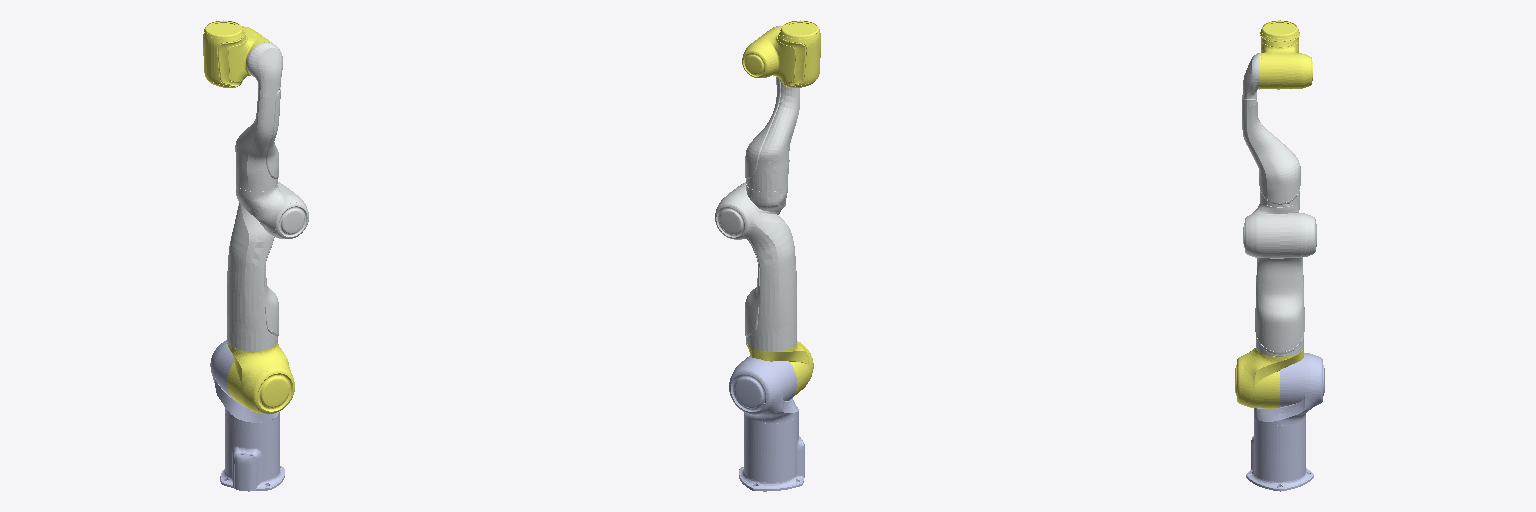
The robot description file, URDF, robot "diana_v2":
<?xml version="1.0" encoding="utf-8"?>
<!-- This URDF was automatically created by SolidWorks to URDF Exporter! Originally created by [author] ([email redacted]) 
     Commit Version: 1.5.1-0-g916b5db  Build Version: 1.5.7152.31018
     For more information, please see http://wiki.ros.org/sw_urdf_exporter -->
<robot name="diana_v2">

  <link name="world" />

  <joint name="world_joint" type="fixed" >
    <parent link="world"/>
    <child link="base"/>
    <origin xyz="0 0 0" rpy="0 0 0"/>
  </joint>
  
  <link
    name="base">
    <inertial>
      <origin
        xyz="0.00153097191906452 0.00152031034664837 0.0524230280849149"
        rpy="0 0 0" />
      <mass
        value="1.33110743457779" />
      <inertia
        ixx="0.00695879790529406"
        ixy="9.99328685258342E-05"
        ixz="7.99577031212481E-05"
        iyy="0.00695365531716522"
        iyz="7.90796997368543E-05"
        izz="0.00729823323321907" />
    </inertial>
    <visual>
      <origin
        xyz="0 0 0"
        rpy="0 0 0" />
      <geometry>
        <mesh
          filename="package://diana7_description/meshes/visual/dae/base.dae" />
      </geometry>
      <material
        name="">
        <color
          rgba="0.796078431372549 0.823529411764706 0.937254901960784 1" />
      </material>
    </visual>
    <collision>
      <origin
        xyz="0 0 0"
        rpy="0 0 0" />
      <geometry>
        <mesh
          filename="package://diana7_description/meshes/visual/dae/base.dae" />
      </geometry>
    </collision>
  </link>
  <link
    name="link_1">
    <inertial>
      <origin
        xyz="5.5234067920554E-05 0.0254878204920178 -0.0355441421264809"
        rpy="0 0 0" />
      <mass
        value="1.09025546409174" />
      <inertia
        ixx="0.00585031196428369"
        ixy="1.4630349447555E-07"
        ixz="1.35351687162397E-06"
        iyy="0.00645496952227061"
        iyz="-0.00104800484741808"
        izz="0.00459531291521244" />
    </inertial>
    <visual>
      <origin
        xyz="0 0 0"
        rpy="0 0 0" />
      <geometry>
        <mesh
          filename="package://diana7_description/meshes/visual/dae/link_1.dae" />
      </geometry>
      <material
        name="">
        <color
          rgba="0.796078431372549 0.823529411764706 0.937254901960784 1" />
      </material>
    </visual>
    <collision>
      <origin
        xyz="0 0 0"
        rpy="0 0 0" />
      <geometry>
        <mesh
          filename="package://diana7_description/meshes/visual/dae/link_1.dae" />
      </geometry>
    </collision>
  </link>
  <joint
    name="joint_1"
    type="revolute">
    <origin
      xyz="0 0 0.2856"
      rpy="0 0 0" />
    <parent
      link="base" />
    <child
      link="link_1" />
    <axis
      xyz="0 0 -1" />
    <limit
      lower="-3.12"
      upper="3.12"
      effort="235"
      velocity="2.618" />
  </joint>
  <link
    name="link_2">
    <inertial>
      <origin
        xyz="-3.62724763868157E-06 -0.0292741005087307 -0.041280769252073"
        rpy="0 0 0" />
      <mass
        value="1.09515454908799" />
      <inertia
        ixx="0.00575817488413533"
        ixy="4.92454490330888E-07"
        ixz="-5.75758988171004E-07"
        iyy="0.00452592941277235"
        iyz="0.00135206824645357"
        izz="0.0058904584276842" />
    </inertial>
    <visual>
      <origin
        xyz="0 0 0"
        rpy="0 0 0" />
      <geometry>
        <mesh
          filename="package://diana7_description/meshes/visual/dae/link_2.dae" />
      </geometry>
      <material
        name="">
        <color
          rgba="0.980392156862745 0.980392156862745 0.470588235294118 1" />
      </material>
    </visual>
    <collision>
      <origin
        xyz="0 0 0"
        rpy="0 0 0" />
      <geometry>
        <mesh
          filename="package://diana7_description/meshes/visual/dae/link_2.dae" />
      </geometry>
    </collision>
  </link>
  <joint
    name="joint_2"
    type="revolute">
    <origin
      xyz="0 0 0"
      rpy="-1.5707963267949 0 0" />
    <parent
      link="link_1" />
    <child
      link="link_2" />
    <axis
      xyz="0 0 1" />
    <limit
      lower="-1.57"
      upper="1.57"
      effort="235"
      velocity="2.618" />
  </joint>
  <link
    name="link_3">
    <inertial>
      <origin
        xyz="0.0114318213510691 0.0101707598694861 -0.15131695375217"
        rpy="0 0 0" />
      <mass
        value="2.01686690128149" />
      <inertia
        ixx="0.0362470020041464"
        ixy="-0.00099203786071914"
        ixz="-0.00494440140493448"
        iyy="0.0374857206758098"
        iyz="-0.00313859974095155"
        izz="0.00905850119342719" />
    </inertial>
    <visual>
      <origin
        xyz="0 0 0"
        rpy="0 0 0" />
      <geometry>
        <mesh
          filename="package://diana7_description/meshes/visual/dae/link_3.dae" />
      </geometry>
      <material
        name="">
        <color
          rgba="0.898039215686275 0.917647058823529 0.929411764705882 1" />
      </material>
    </visual>
    <collision>
      <origin
        xyz="0 0 0"
        rpy="0 0 0" />
      <geometry>
        <mesh
          filename="package://diana7_description/meshes/visual/dae/link_3.dae" />
      </geometry>
    </collision>
  </link>
  <joint
    name="joint_3"
    type="revolute">
    <origin
      xyz="0 -0.4586 0"
      rpy="1.5707963267949 0 0" />
    <parent
      link="link_2" />
    <child
      link="link_3" />
    <axis
      xyz="0 0 -1" />
    <limit
      lower="-3.12"
      upper="3.12"
      effort="111"
      velocity="3.1416" />
  </joint>
  <link
    name="link_4">
    <inertial>
      <origin
        xyz="-0.0240716370537192 -0.0235631728011761 -0.0366858174253844"
        rpy="0 0 0" />
      <mass
        value="0.849743349506889" />
      <inertia
        ixx="0.00313444335639628"
        ixy="-0.000681243351041131"
        ixz="0.000725380047812207"
        iyy="0.00333717642442852"
        iyz="0.000771057559109157"
        izz="0.0034847726349841" />
    </inertial>
    <visual>
      <origin
        xyz="0 0 0"
        rpy="0 0 0" />
      <geometry>
        <mesh
          filename="package://diana7_description/meshes/visual/dae/link_4.dae" />
      </geometry>
      <material
        name="">
        <color
          rgba="0.898039215686275 0.917647058823529 0.929411764705882 1" />
      </material>
    </visual>
    <collision>
      <origin
        xyz="0 0 0"
        rpy="0 0 0" />
      <geometry>
        <mesh
          filename="package://diana7_description/meshes/visual/dae/link_4.dae" />
      </geometry>
    </collision>
  </link>
  <joint
    name="joint_4"
    type="revolute">
    <origin
      xyz="0.065 0 0"
      rpy="-1.5707963267949 0 0" />
    <parent
      link="link_3" />
    <child
      link="link_4" />
    <axis
      xyz="0 0 1" />
    <limit
      lower="0"
      upper="3.05"
      effort="111"
      velocity="3.1416" />
  </joint>
  <link
    name="link_5">
    <inertial>
      <origin
        xyz="-0.00867148011164554 -0.0383499684802812 -0.210246042699824"
        rpy="0 0 0" />
      <mass
        value="1.20580396965245" />
      <inertia
        ixx="0.0218436427570802"
        ixy="-0.000309747330693722"
        ixz="0.00089039094846826"
        iyy="0.0205896836785318"
        iyz="0.00493573923914426"
        izz="0.00372270106038425" />
    </inertial>
    <visual>
      <origin
        xyz="0 0 0"
        rpy="0 0 0" />
      <geometry>
        <mesh
          filename="package://diana7_description/meshes/visual/dae/link_5.dae" />
      </geometry>
      <material
        name="">
        <color
          rgba="0.898039215686275 0.917647058823529 0.929411764705882 1" />
      </material>
    </visual>
    <collision>
      <origin
        xyz="0 0 0"
        rpy="0 0 0" />
      <geometry>
        <mesh
          filename="package://diana7_description/meshes/visual/dae/link_5.dae" />
      </geometry>
    </collision>
  </link>
  <joint
    name="joint_5"
    type="revolute">
    <origin
      xyz="-0.0528 -0.47702 0"
      rpy="1.5707963267949 0 0" />
    <parent
      link="link_4" />
    <child
      link="link_5" />
    <axis
      xyz="0 0 -1" />
    <limit
      lower="-3.12"
      upper="3.12"
      effort="54"
      velocity="2.618" />
  </joint>
  <link
    name="link_6">
    <inertial>
      <origin
        xyz="0.045897226241036 -0.00848579821002571 0.0078257811617596"
        rpy="0 0 0" />
      <mass
        value="0.847157564562275" />
      <inertia
        ixx="0.00286926864109097"
        ixy="-0.000341664135091818"
        ixz="-0.000318082297486923"
        iyy="0.0043294660443987"
        iyz="-5.82962380662208E-05"
        izz="0.00437292566725527" />
    </inertial>
    <visual>
      <origin
        xyz="0 0 0"
        rpy="0 0 3.14159265359" />
      <geometry>
        <mesh
          filename="package://diana7_description/meshes/visual/dae/link_6.dae" />
      </geometry>
      <material
        name="">
        <color
          rgba="0.980392156862745 0.980392156862745 0.470588235294118 1" />
      </material>
    </visual>
    <collision>
      <origin
        xyz="0 0 0"
        rpy="0 0 3.14159265359" />
      <geometry>
        <mesh
          filename="package://diana7_description/meshes/visual/dae/link_6.dae" />
      </geometry>
    </collision>
  </link>
  <joint
    name="joint_6"
    type="revolute">
    <origin
      xyz="-0.0122 0 -0.021619"
      rpy="-1.5707963267949 -3.14159265359 0" />
    <parent
      link="link_5" />
    <child
      link="link_6" />
    <axis
      xyz="0 0 -1" />
    <limit
      lower="-3.12"
      upper="3.12"
      effort="54"
      velocity="2.618" />
  </joint>
  <link
    name="link_7">
    <inertial>
      <origin
        xyz="0.00117005127509708 5.03191940906655E-06 0.0151381784822231"
        rpy="0 0 0" />
      <mass
        value="0.233956150459573" />
      <inertia
        ixx="0.000142027360977168"
        ixy="1.76426389345981E-08"
        ixz="2.14635741626268E-07"
        iyy="0.000134421724783865"
        iyz="-1.29988689037464E-09"
        izz="0.000240242798572463" />
    </inertial>
    <visual>
      <origin
        xyz="0 0 0"
        rpy="0 0 0" />
      <geometry>
        <mesh
          filename="package://diana7_description/meshes/visual/dae/link_7.dae" />
      </geometry>
      <material
        name="">
        <color
          rgba="0.898039215686275 0.917647058823529 0.929411764705882 1" />
      </material>
    </visual>
    <collision>
      <origin
        xyz="0 0 0"
        rpy="0 0 0" />
      <geometry>
        <mesh
          filename="package://diana7_description/meshes/visual/dae/link_7.dae" />
      </geometry>
    </collision>
  </link>
  <joint
    name="joint_7"
    type="revolute">
    <origin
      xyz="0.087 0.1169 0"
      rpy="1.570796 0 0" />
    <parent
      link="link_6" />
    <child
      link="link_7" />
    <axis
      xyz="0 0 1" />
    <limit
      lower="-3.12"
      upper="3.12"
      effort="54"
      velocity="3.1416" />
  </joint>
</robot>

--- Facts derived from the render (not from the file) ---
3 views of the same robot in one strip: view 1: azimuth 30°, elevation 25°; view 2: azimuth 150°, elevation 25°; view 3: azimuth 270°, elevation 25° (orthographic).
Robot: diana_v2 — 9 links, 8 joints (7 revolute, 1 fixed); root link world; default pose: every joint at zero.
Links seen in each view (by area): view 1: link_3, link_5, base, link_2, link_6, link_4, link_1; view 2: link_3, base, link_6, link_1, link_5, link_2, link_4; view 3: link_3, link_5, base, link_6, link_1, link_2, link_4.
Boxes of the visible links, box(x1,y1,x2,y2) form: link_3: box(227, 182, 285, 350); link_5: box(235, 42, 282, 191); base: box(220, 413, 284, 491); link_2: box(227, 342, 294, 413); link_6: box(203, 20, 271, 87); link_4: box(236, 184, 308, 238); link_1: box(210, 340, 279, 422); link_3: box(715, 186, 796, 351); base: box(739, 403, 804, 491); link_6: box(742, 20, 820, 87); link_1: box(729, 355, 798, 423); link_5: box(745, 26, 799, 191); link_2: box(746, 341, 813, 398); link_4: box(737, 182, 787, 214); link_3: box(1255, 213, 1316, 356); link_5: box(1242, 53, 1300, 206); base: box(1246, 417, 1313, 491); link_6: box(1260, 20, 1312, 89); link_1: box(1254, 353, 1324, 425); link_2: box(1235, 348, 1303, 408); link_4: box(1243, 201, 1299, 258).
Bounding box of the posed robot: 0.2651 × 0.2406 × 1.29 m (x, y, z).
7 mesh visuals loaded from 8 distinct referenced files (7 Collada DAE); not drawn: 1 (reference not matched to a file when rendering).
